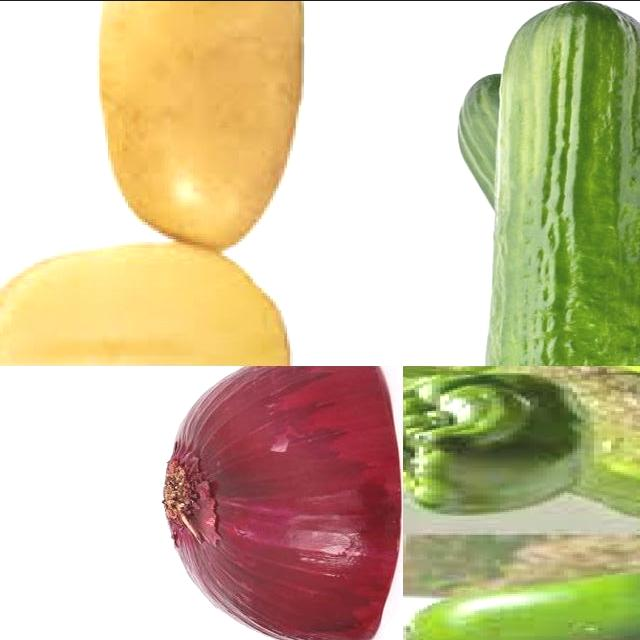bell_pepper: (404, 368, 632, 515), (404, 558, 640, 640)
cucumber: (470, 1, 640, 366)
onion: (159, 366, 404, 640)
potato: (99, 1, 305, 253), (1, 242, 294, 366)
